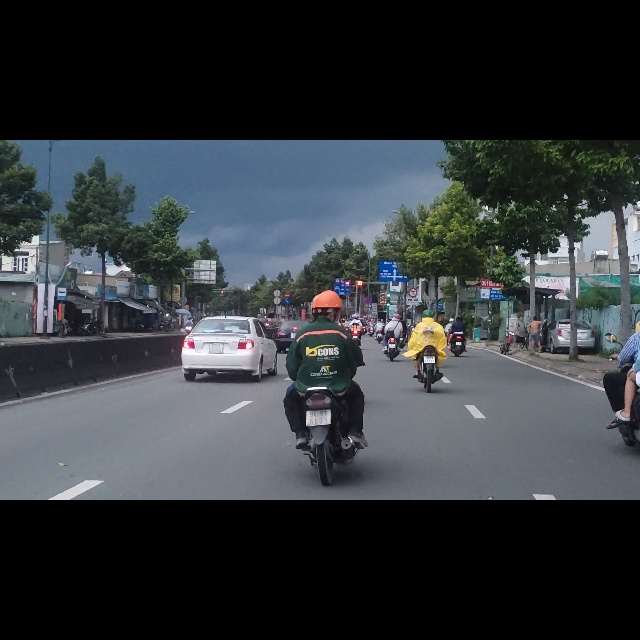bien_cam: (334, 254, 350, 275), (409, 263, 417, 279), (284, 281, 290, 292), (284, 271, 290, 281)
